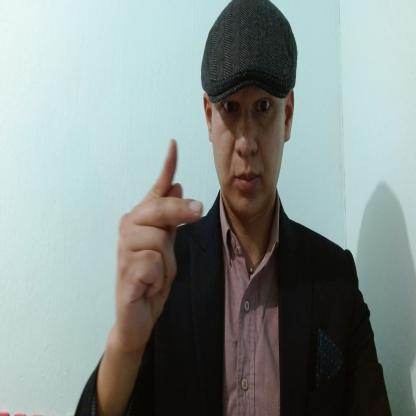P: (114, 135, 205, 346)
